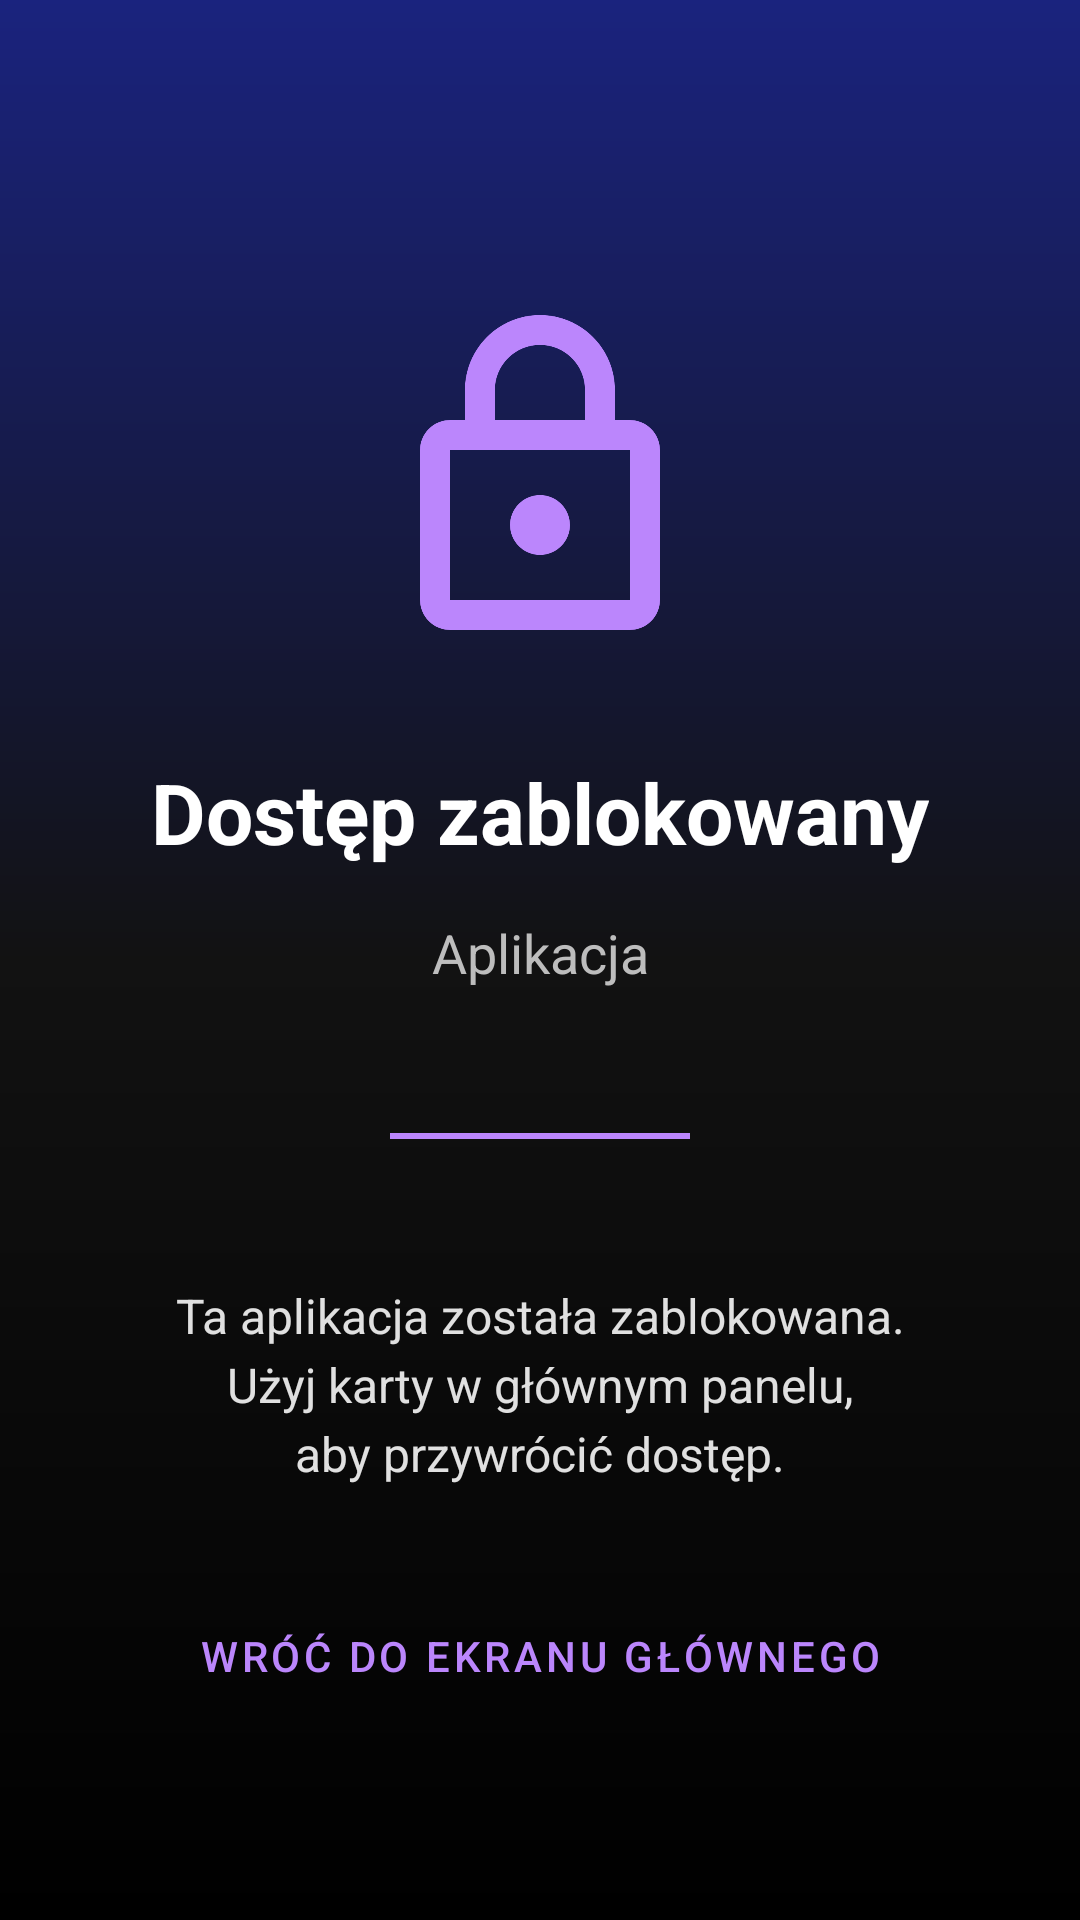

Icons on this 1080w x 1920h Android screen, each with the point to tap as [x,y]:
lock: [540,480]
